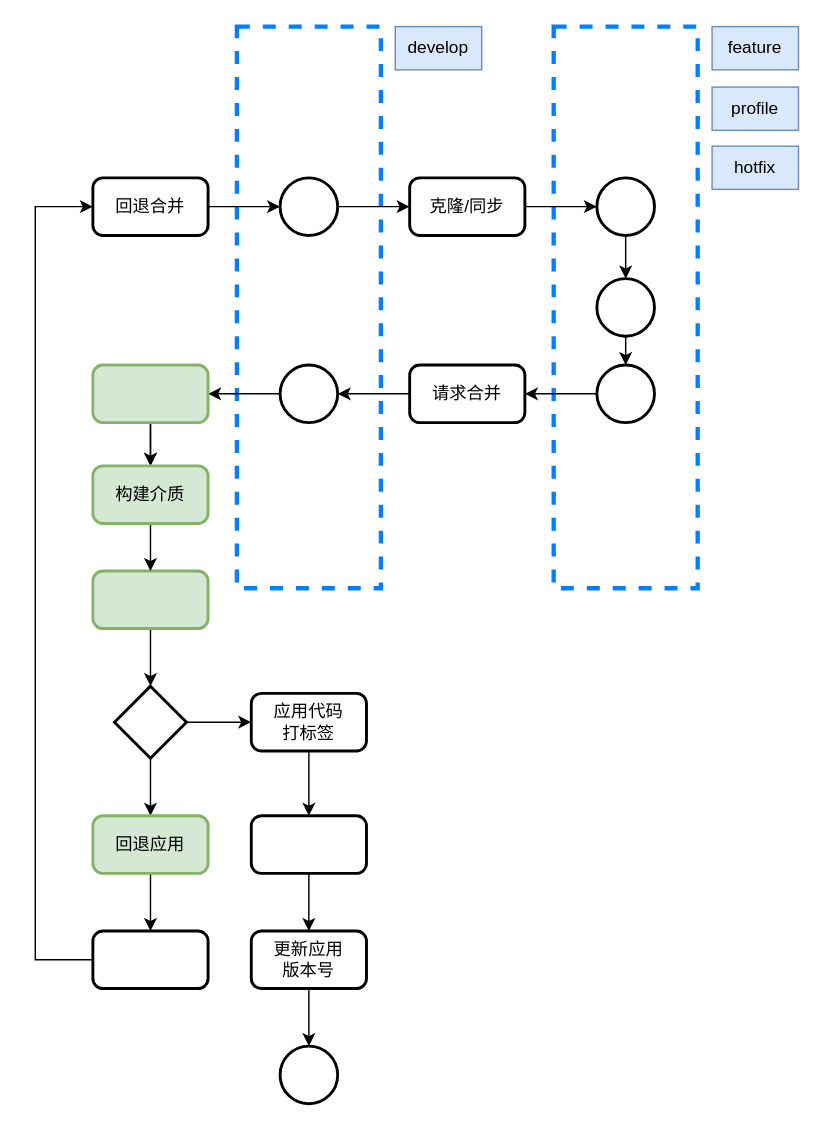
Some shapes in this 824 by 1130 pixel diagram are drawn without their labels. Each missing label, with the box of its shape:
开发环境 部署应用: (91, 569, 209, 629)
开始: (278, 176, 338, 236)
拉取代码: (91, 363, 209, 423)
构建脚本 打快照: (249, 814, 367, 874)
清理介质: (91, 929, 209, 989)
结束: (278, 1044, 338, 1104)
